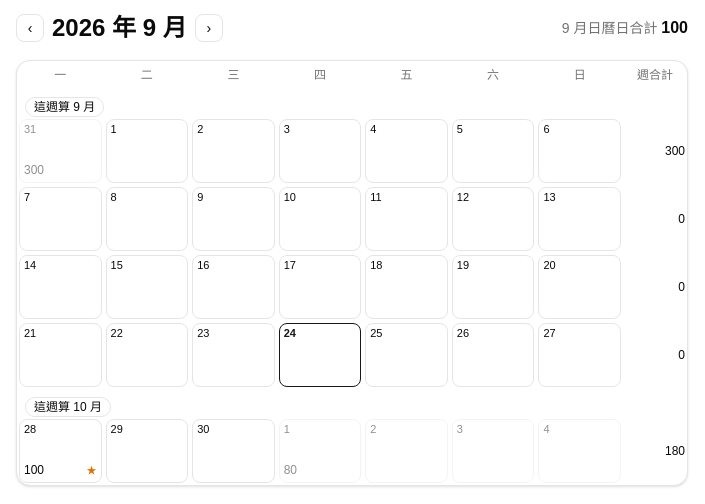
CalendarPage › 上一月／下一月切換並重新查詢
The width and height of the screenshot is (705, 504).
Click the button named "下一月" at (209, 28), box 195,14 -> 223,42
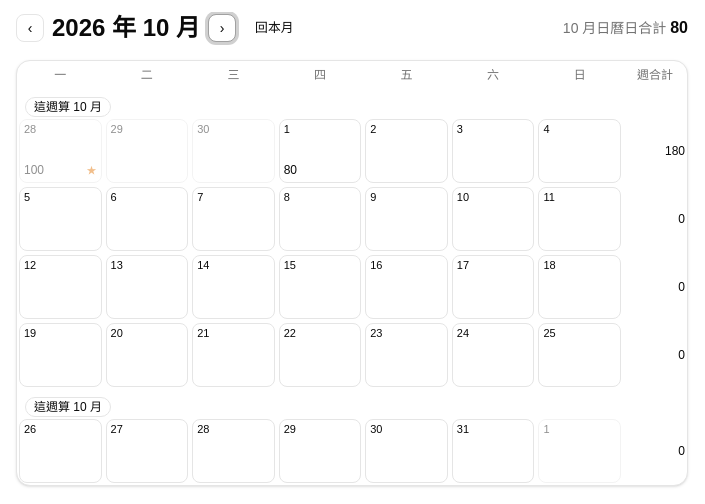
Check: the heading "2026 年 10 月" is shown, box 52,12 -> 200,44
Click the button "回本月" at (274, 28), box 244,14 -> 304,42
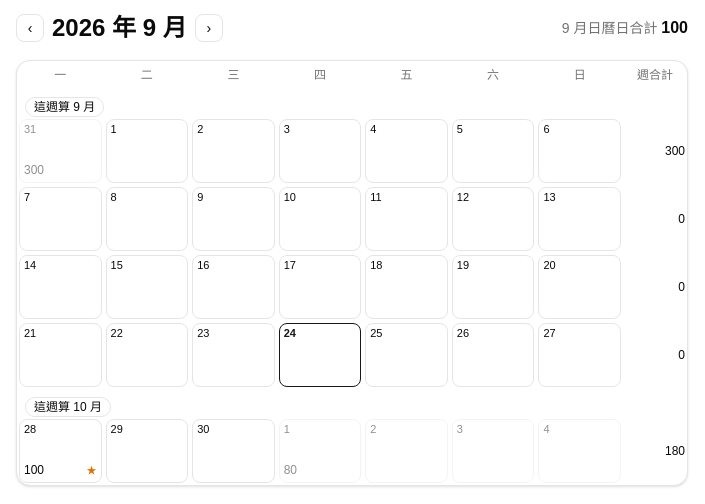
Check: the heading "2026 年 9 月" is shown, box 52,12 -> 187,44
